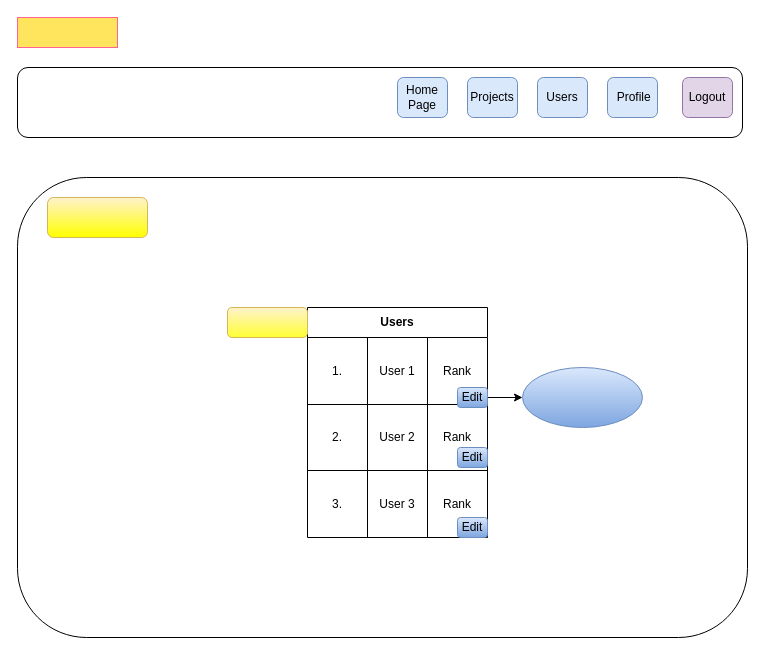
The diagram is 765 pixels wide and 663 high, and some of its shapes have lost their labels. The centre of each missing label's shape, as x and y in pixels:
Admin only: the point at 582,397
List: the point at 267,322
User page: the point at 67,32
Users list: the point at 97,217
